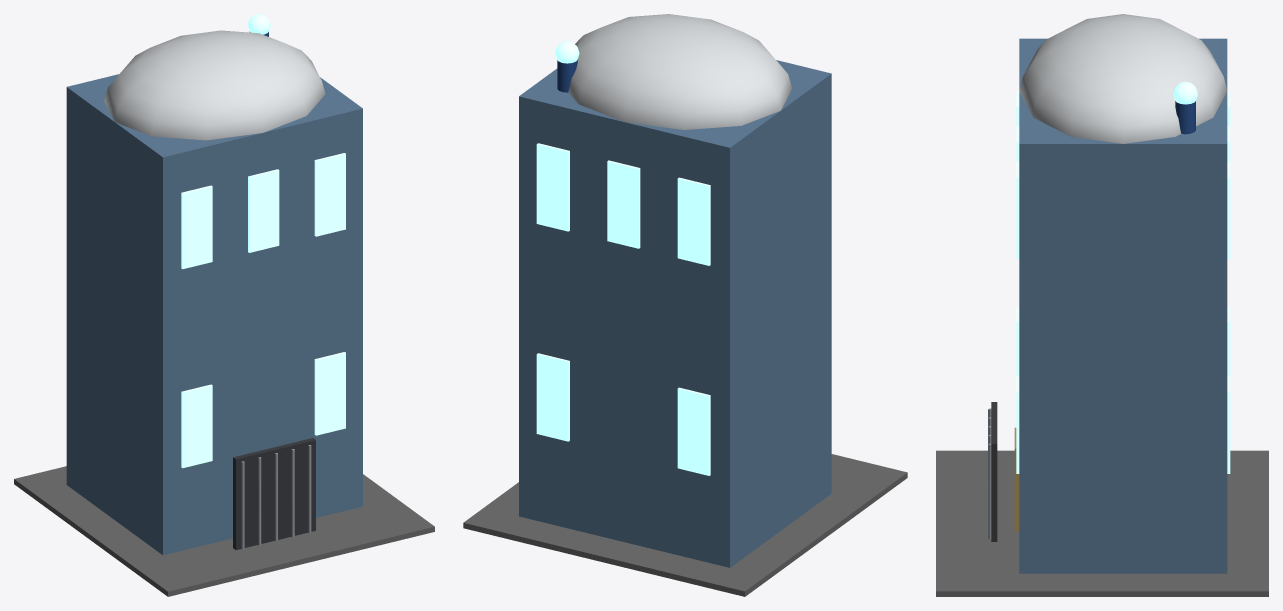
File: bld_special_police_a10.glb
The picture shows the model from 3 angles, left to right: view 1: azimuth 30°, elevation 25°; view 2: azimuth 150°, elevation 25°; view 3: azimuth 270°, elevation 25°; orthographic projection. The views are drawn at different scales.
Parts seen in each view (by area): view 1: body; view 2: body; view 3: body.
Part boxes in pixels (x1,y1,x2,y2): body: (14, 14, 434, 596); body: (463, 14, 907, 596); body: (936, 14, 1268, 596).
Size of what is drawn, in the model's own units: 8 by 13.05 by 8.
